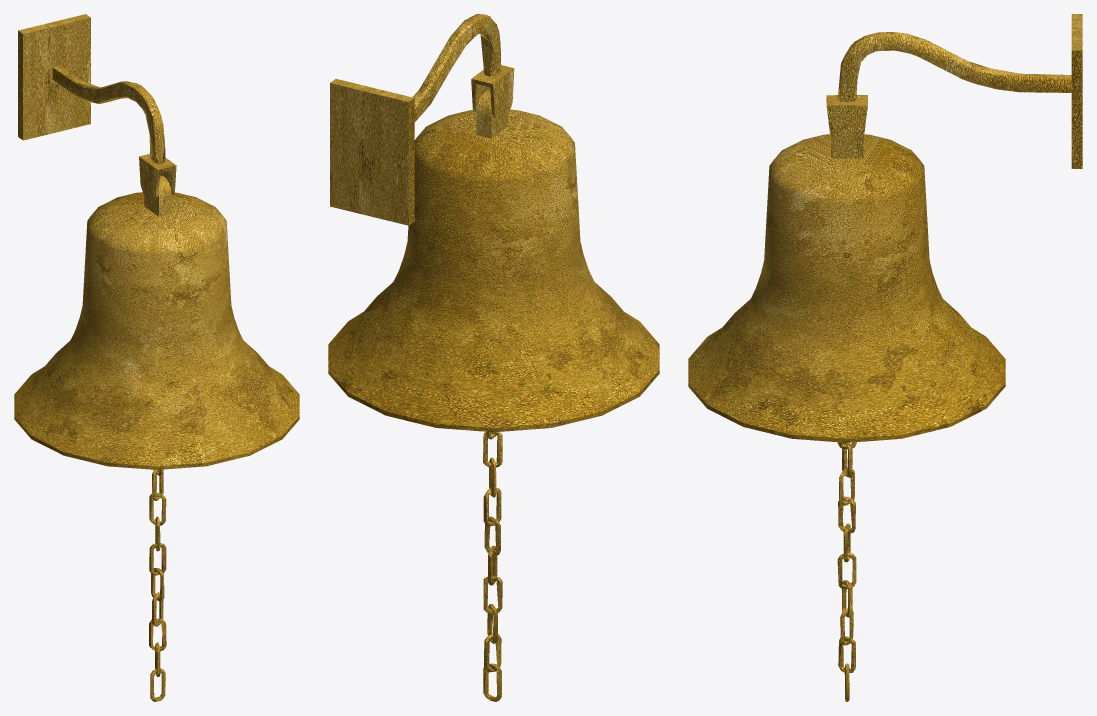
The model's file is Bell.FBX.
3 renders of one model, left to right at view 1: azimuth 30°, elevation 25°; view 2: azimuth 150°, elevation 25°; view 3: azimuth 270°, elevation 25°, orthographic. The views are drawn at different scales.
Parts seen in each view (by area): view 1: Bell; view 2: Bell; view 3: Bell.
Boxes of the visible parts, box(x1,y1,x2,y2) form: Bell: box(14, 14, 299, 701); Bell: box(328, 14, 659, 701); Bell: box(688, 14, 1082, 701).
Bounding box in the file's own units: 51.63 × 118 × 63.23.
Materials: 1 (1 with a texture image).
